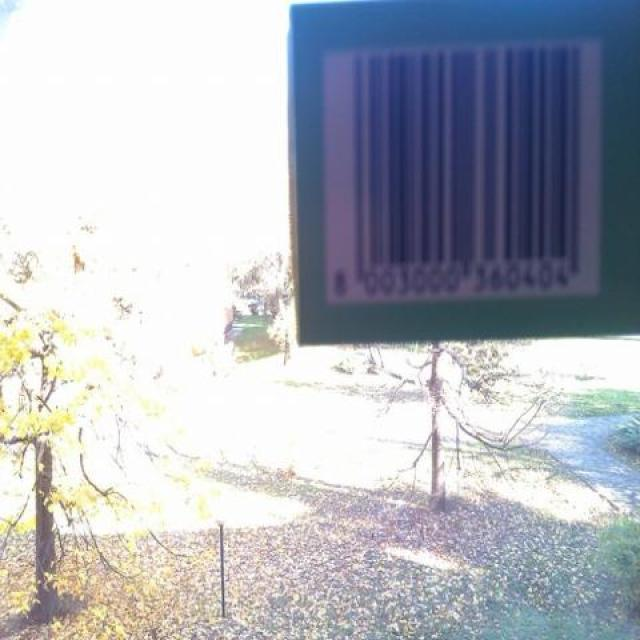Barcode: (323, 37, 606, 294)
